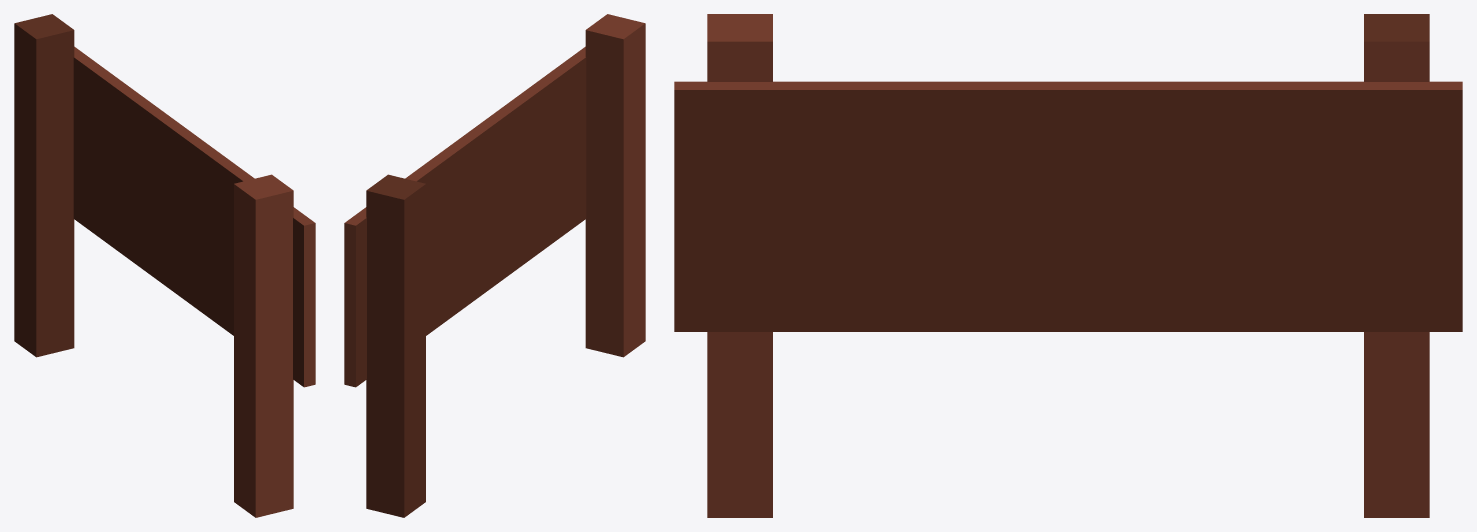
File: SM_Barriers_04.fbx
3 renders of one model, left to right at view 1: azimuth 30°, elevation 25°; view 2: azimuth 150°, elevation 25°; view 3: azimuth 270°, elevation 25°, orthographic. The views are drawn at different scales.
Parts seen in each view (by area): view 1: SM_Barriers_04; view 2: SM_Barriers_04; view 3: SM_Barriers_04.
Boxes of the visible parts, box(x1,y1,x2,y2) form: SM_Barriers_04: box(14, 14, 315, 517); SM_Barriers_04: box(344, 14, 645, 517); SM_Barriers_04: box(674, 14, 1462, 517).
Bounding box in the file's own units: 12.83 × 80 × 120.
